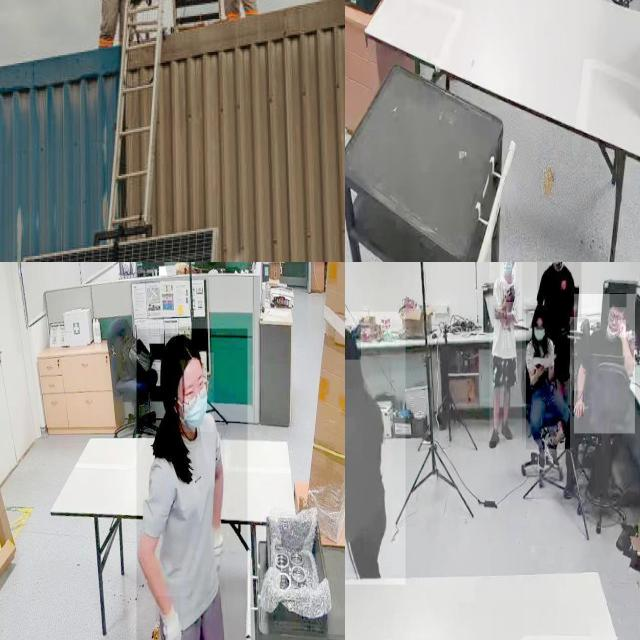face_mask: (172, 352, 214, 432), (499, 262, 516, 283), (534, 315, 546, 343)
face_nomask: (608, 308, 622, 335)
glasses: (184, 380, 210, 410)
hand_glove: (156, 596, 181, 640)
hand_noglove: (572, 391, 584, 417), (502, 288, 516, 302), (493, 306, 507, 320), (618, 320, 626, 338)
head_nohelmet: (161, 334, 201, 360), (345, 325, 361, 360), (609, 293, 627, 308), (534, 303, 548, 318)
person: (136, 328, 247, 640), (345, 311, 405, 585), (574, 294, 636, 434), (526, 306, 570, 450), (489, 262, 522, 442), (537, 262, 582, 318)
shoes: (545, 436, 561, 470), (536, 436, 548, 470), (499, 419, 513, 443), (488, 427, 500, 449)
